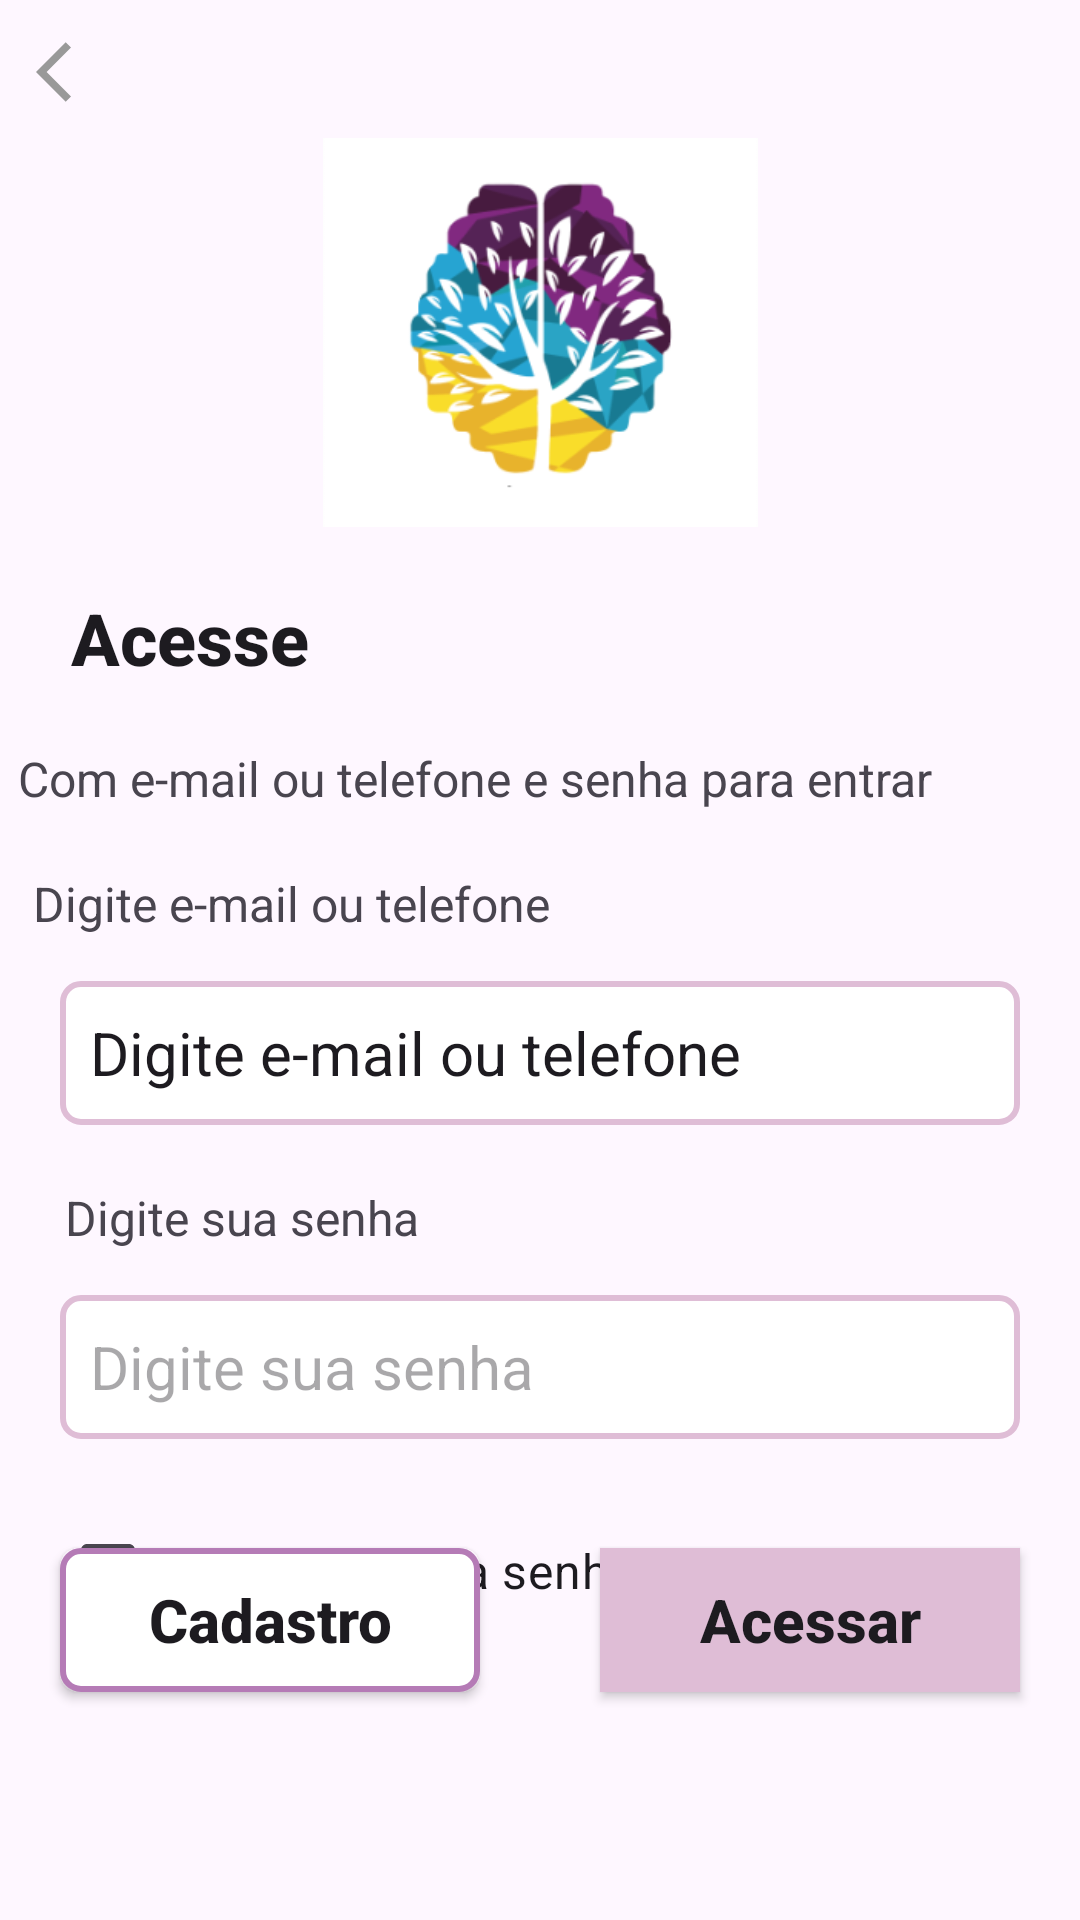

Named icons in this screenshot (1080w x 1920h) and their bounding boxes, (x1, y1, x2, y2):
Voltar: (36, 42, 71, 102)
